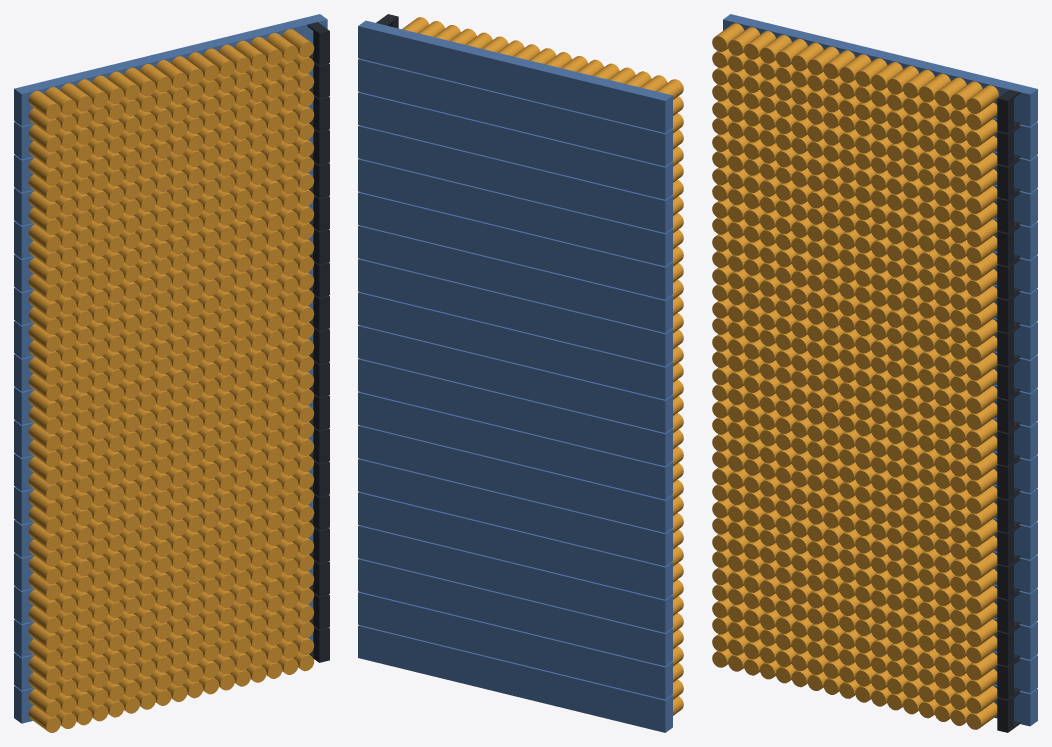
Rendered from tray_board.obj.
3 views of the same model, side by side, from view 1: azimuth 30°, elevation 25°; view 2: azimuth 150°, elevation 25°; view 3: azimuth 330°, elevation 25° (orthographic).
Bounding box in the file's own units: 0.58 × 1.14 × 0.083.
